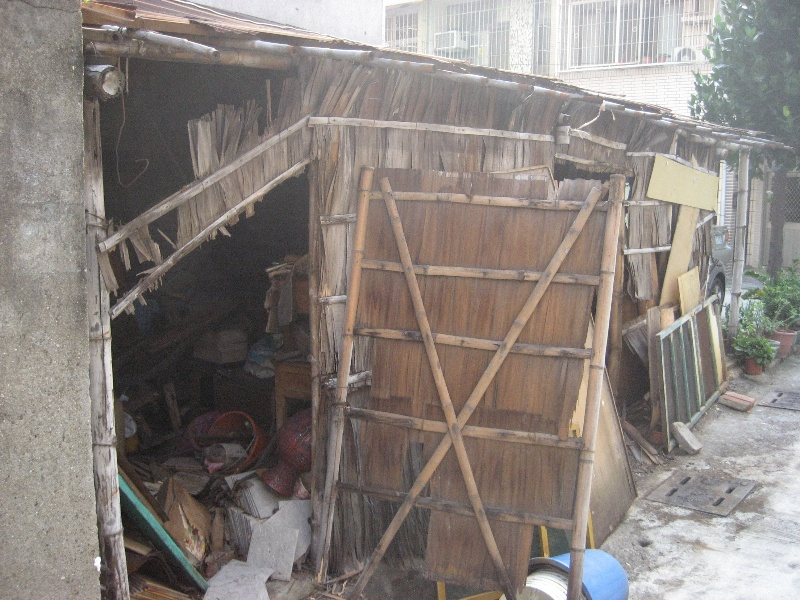bottle: (261, 407, 311, 495)
bucket: (526, 546, 630, 600)
